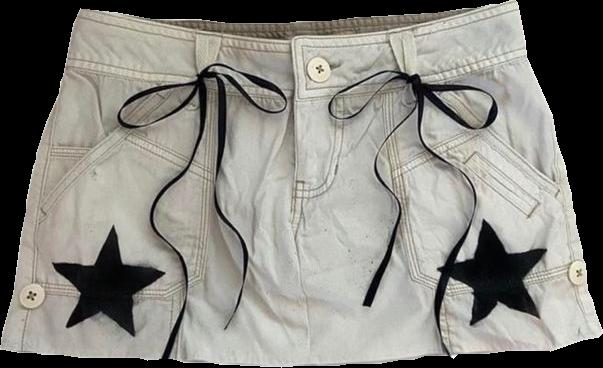Hemline: (0, 333, 602, 366)
Waistline: (65, 47, 525, 96), (79, 0, 517, 42)
